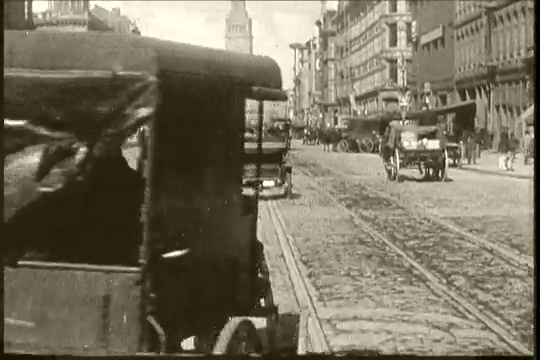carriage: (4, 30, 303, 356), (374, 121, 454, 190), (309, 107, 393, 157)
